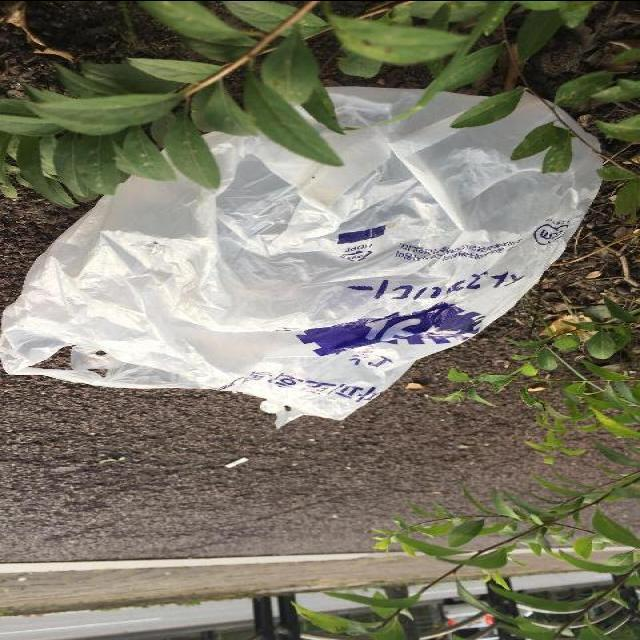plastic bag: (0, 82, 606, 420)
